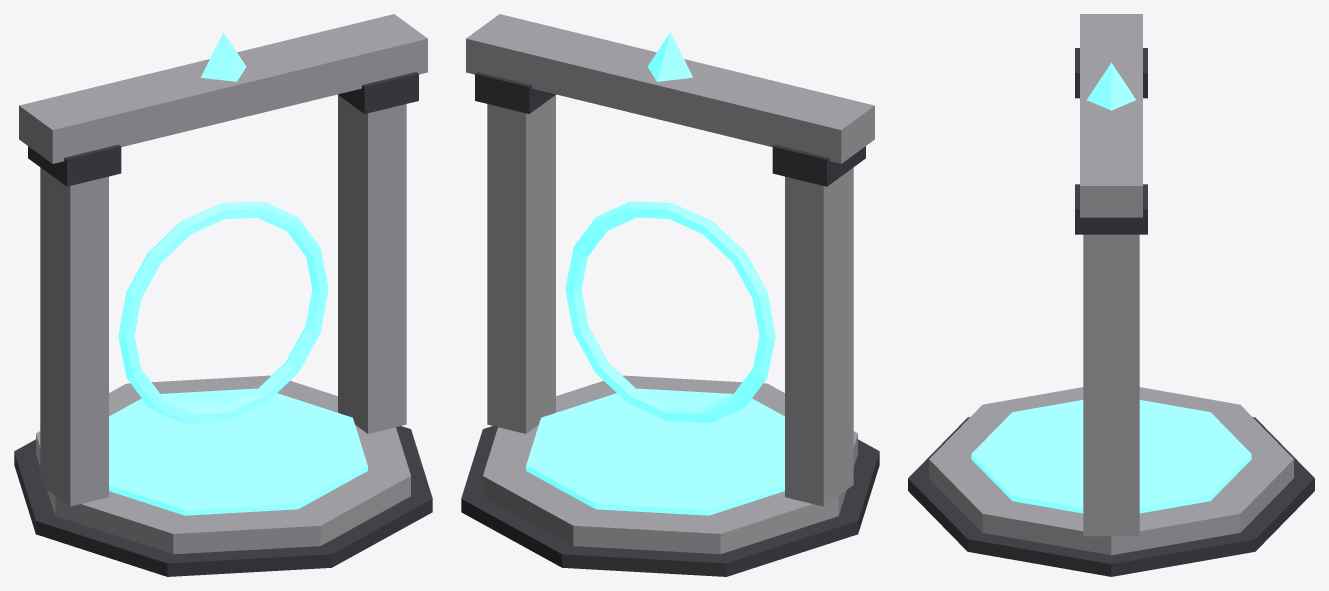
The model's file is exit.glb.
3 renders of one model, left to right at view 1: azimuth 30°, elevation 25°; view 2: azimuth 150°, elevation 25°; view 3: azimuth 270°, elevation 25°, orthographic. The views are drawn at different scales.
Visible parts, largest first — view 1: Frame, Glow, Base; view 2: Frame, Glow, Base; view 3: Base, Frame, Glow.
Part boxes in pixels (<box>): Frame: <box>19,14,427,506</box>; Glow: <box>109,32,367,515</box>; Base: <box>14,375,432,576</box>; Frame: <box>466,14,874,506</box>; Glow: <box>526,32,784,515</box>; Base: <box>461,375,879,576</box>; Base: <box>908,387,1314,576</box>; Frame: <box>1075,14,1147,536</box>; Glow: <box>971,62,1251,513</box>.
Bounding box in the file's own units: 2.9 × 3.37 × 2.9.
